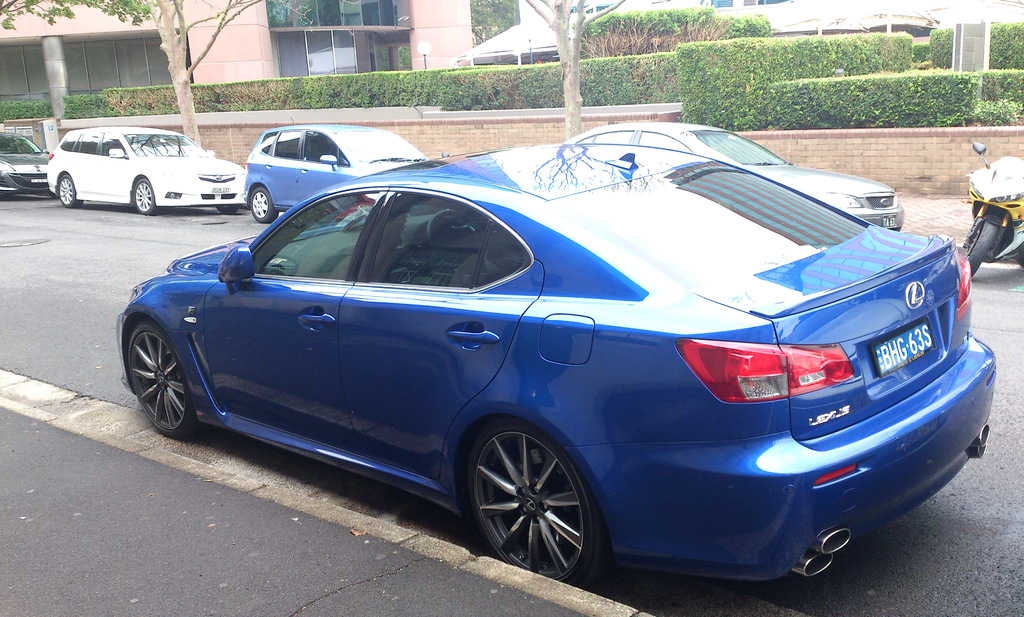Car: (104, 106, 997, 597), (557, 120, 906, 234), (40, 120, 252, 214), (242, 117, 428, 219), (0, 125, 53, 197)
